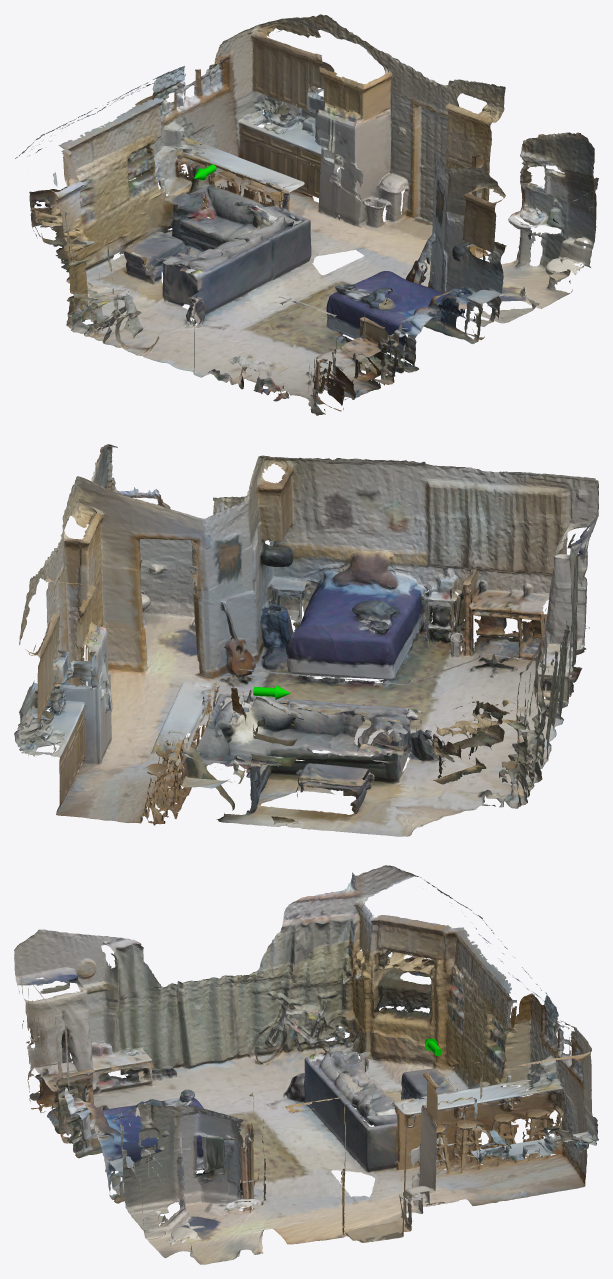
The model's file is situation_2.glb.
3 renders of one model, top to bottom at view 1: azimuth 30°, elevation 25°; view 2: azimuth 150°, elevation 25°; view 3: azimuth 270°, elevation 25°, orthographic. The views are drawn at different scales.
Visible parts, largest first — view 1: world; view 2: world; view 3: world.
Boxes of the visible parts, <box> form: world: <box>15,14,598,415</box>; world: <box>14,444,598,836</box>; world: <box>14,865,598,1264</box>.
Size of the model in its own units: 8.42 by 3.03 by 8.74.
